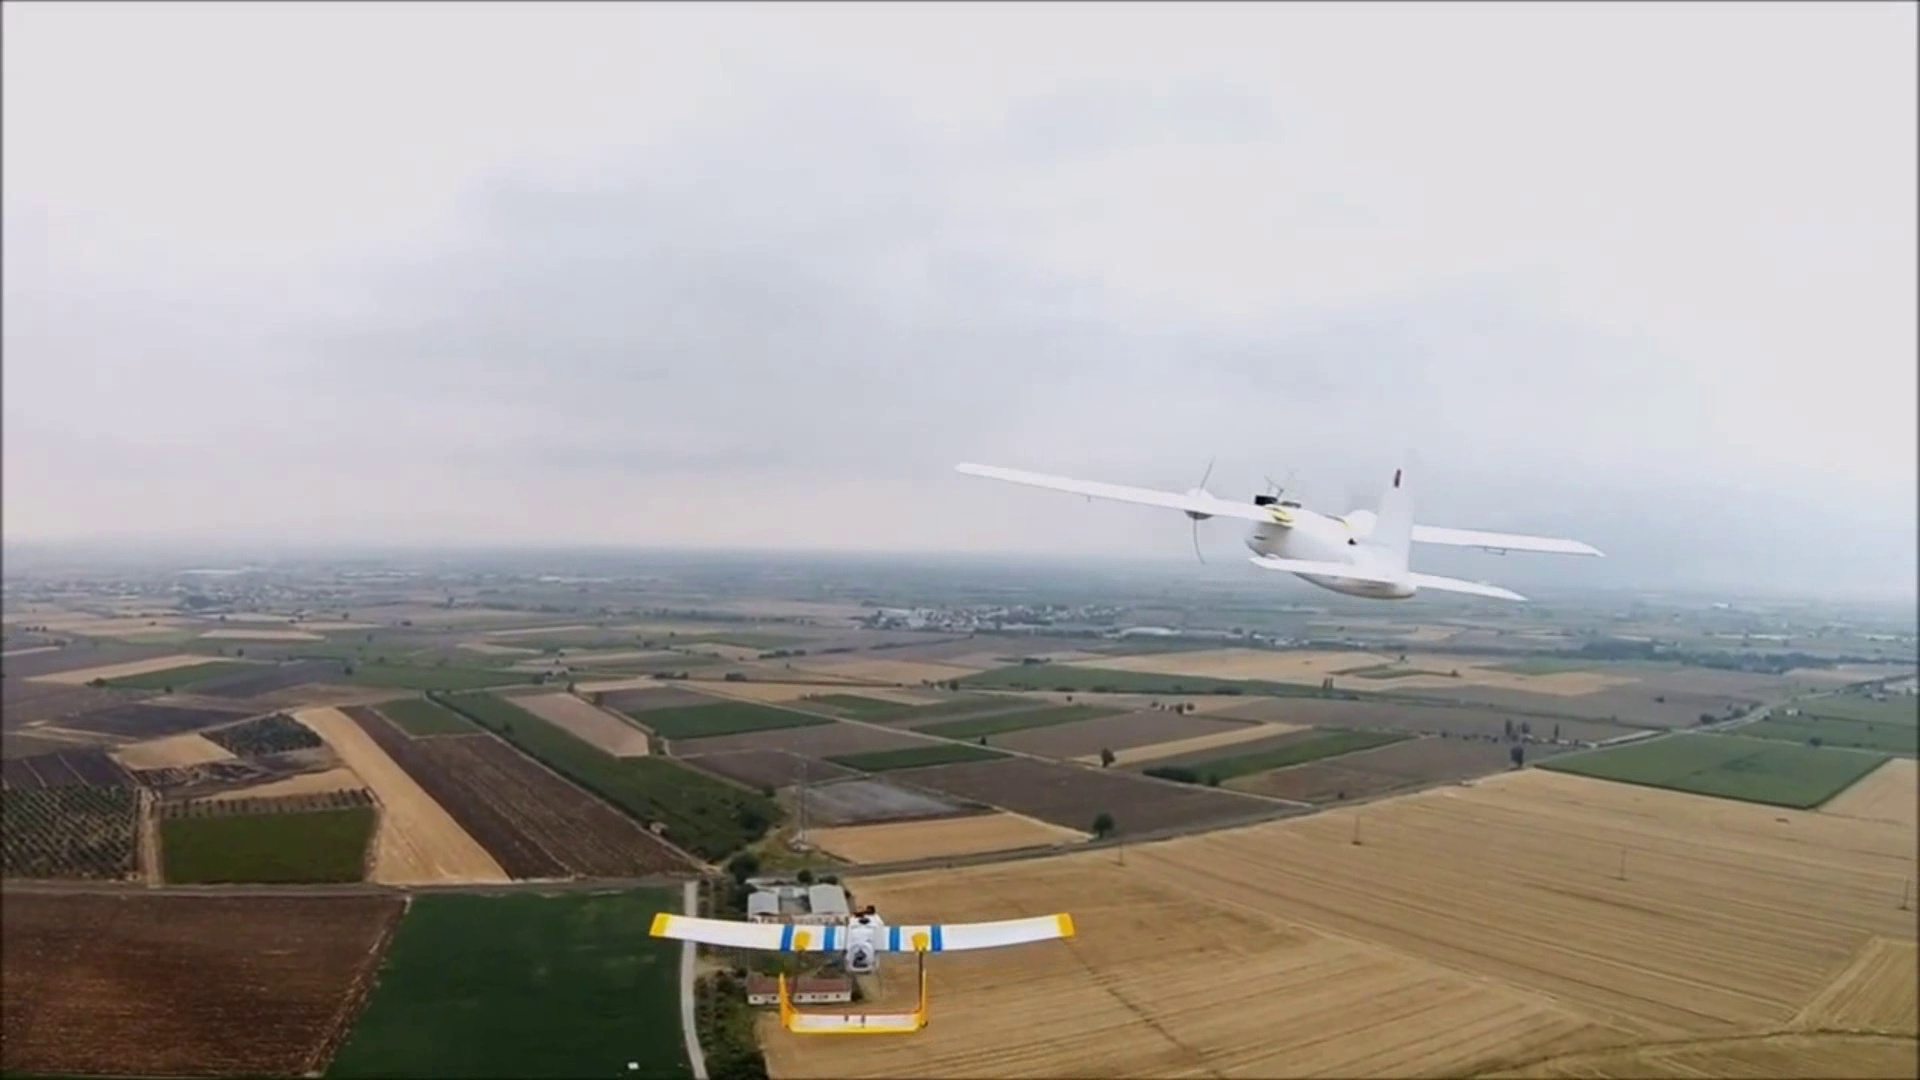airplane: (952, 452, 1604, 608)
